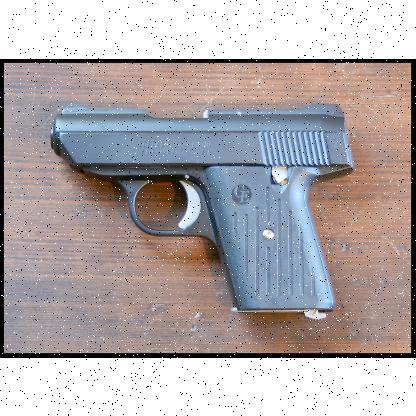gun: (46, 100, 354, 314)
